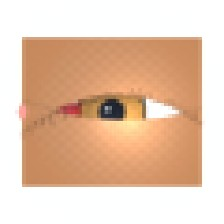hemorrhage_spot: (33, 78, 132, 157)
